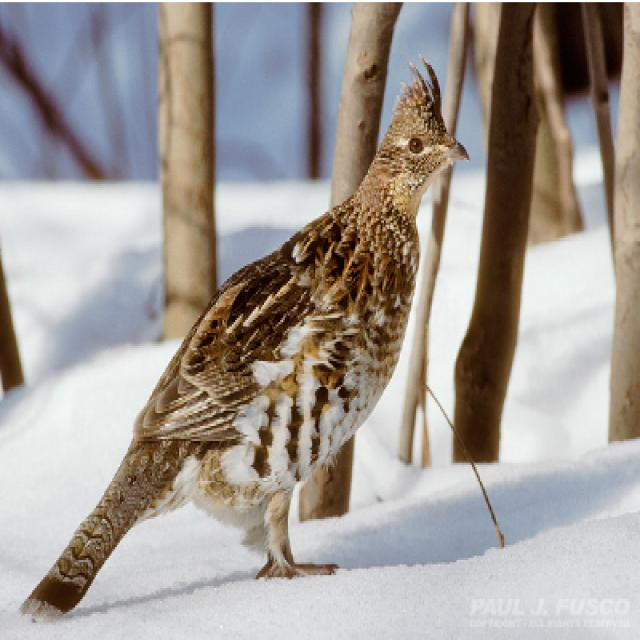bird: (18, 53, 472, 622)
